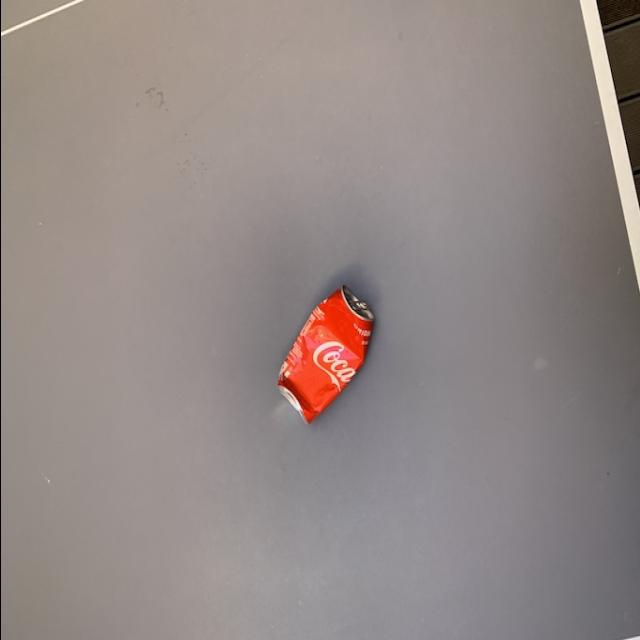litter: (272, 280, 379, 429)
